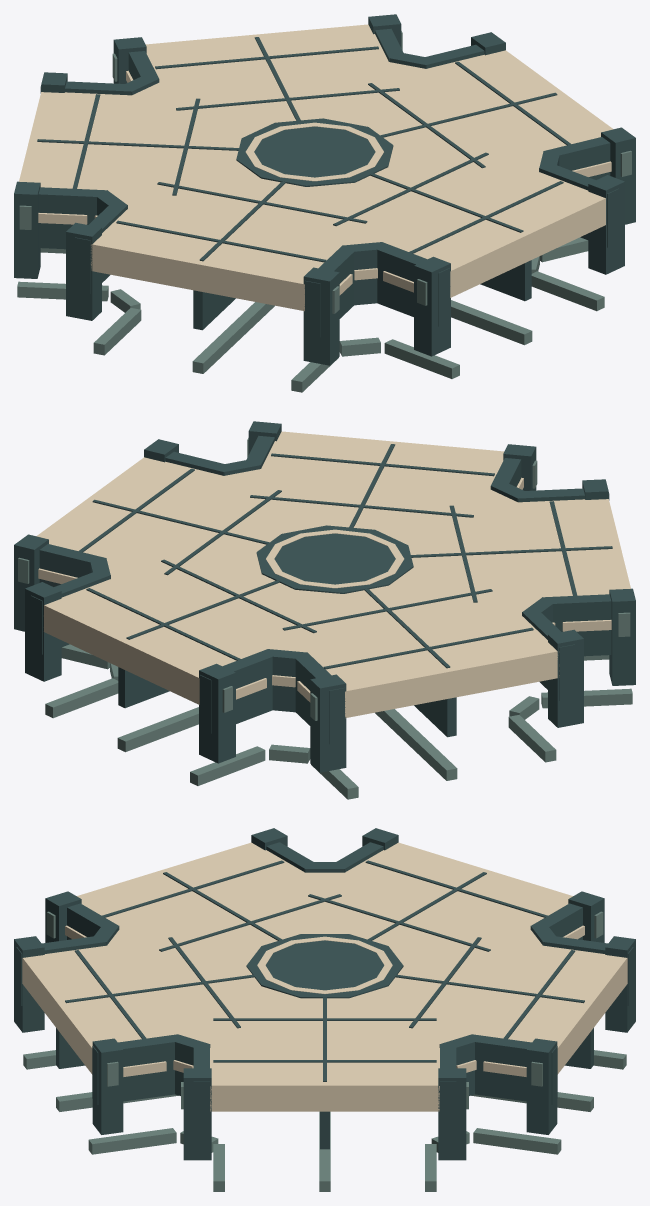
Rendered from Junction_Hub5_lab2.glb.
3 views of the same model, one above another, from view 1: azimuth 30°, elevation 25°; view 2: azimuth 150°, elevation 25°; view 3: azimuth 270°, elevation 25° (orthographic). The views are drawn at different scales.
Parts seen in each view (by area): view 1: Junction_Hub5; view 2: Junction_Hub5; view 3: Junction_Hub5.
Part boxes in pixels (x1,y1,x2,y2): Junction_Hub5: [14, 14, 635, 392]; Junction_Hub5: [14, 421, 635, 799]; Junction_Hub5: [14, 828, 635, 1191].
Bounding box in the file's own units: 7.17 × 1.58 × 7.52.
